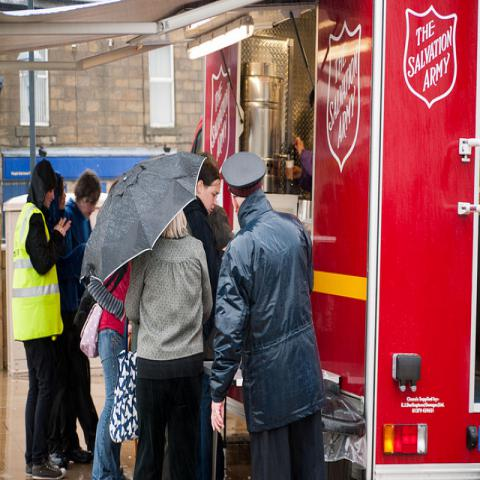truck: (183, 3, 479, 474)
